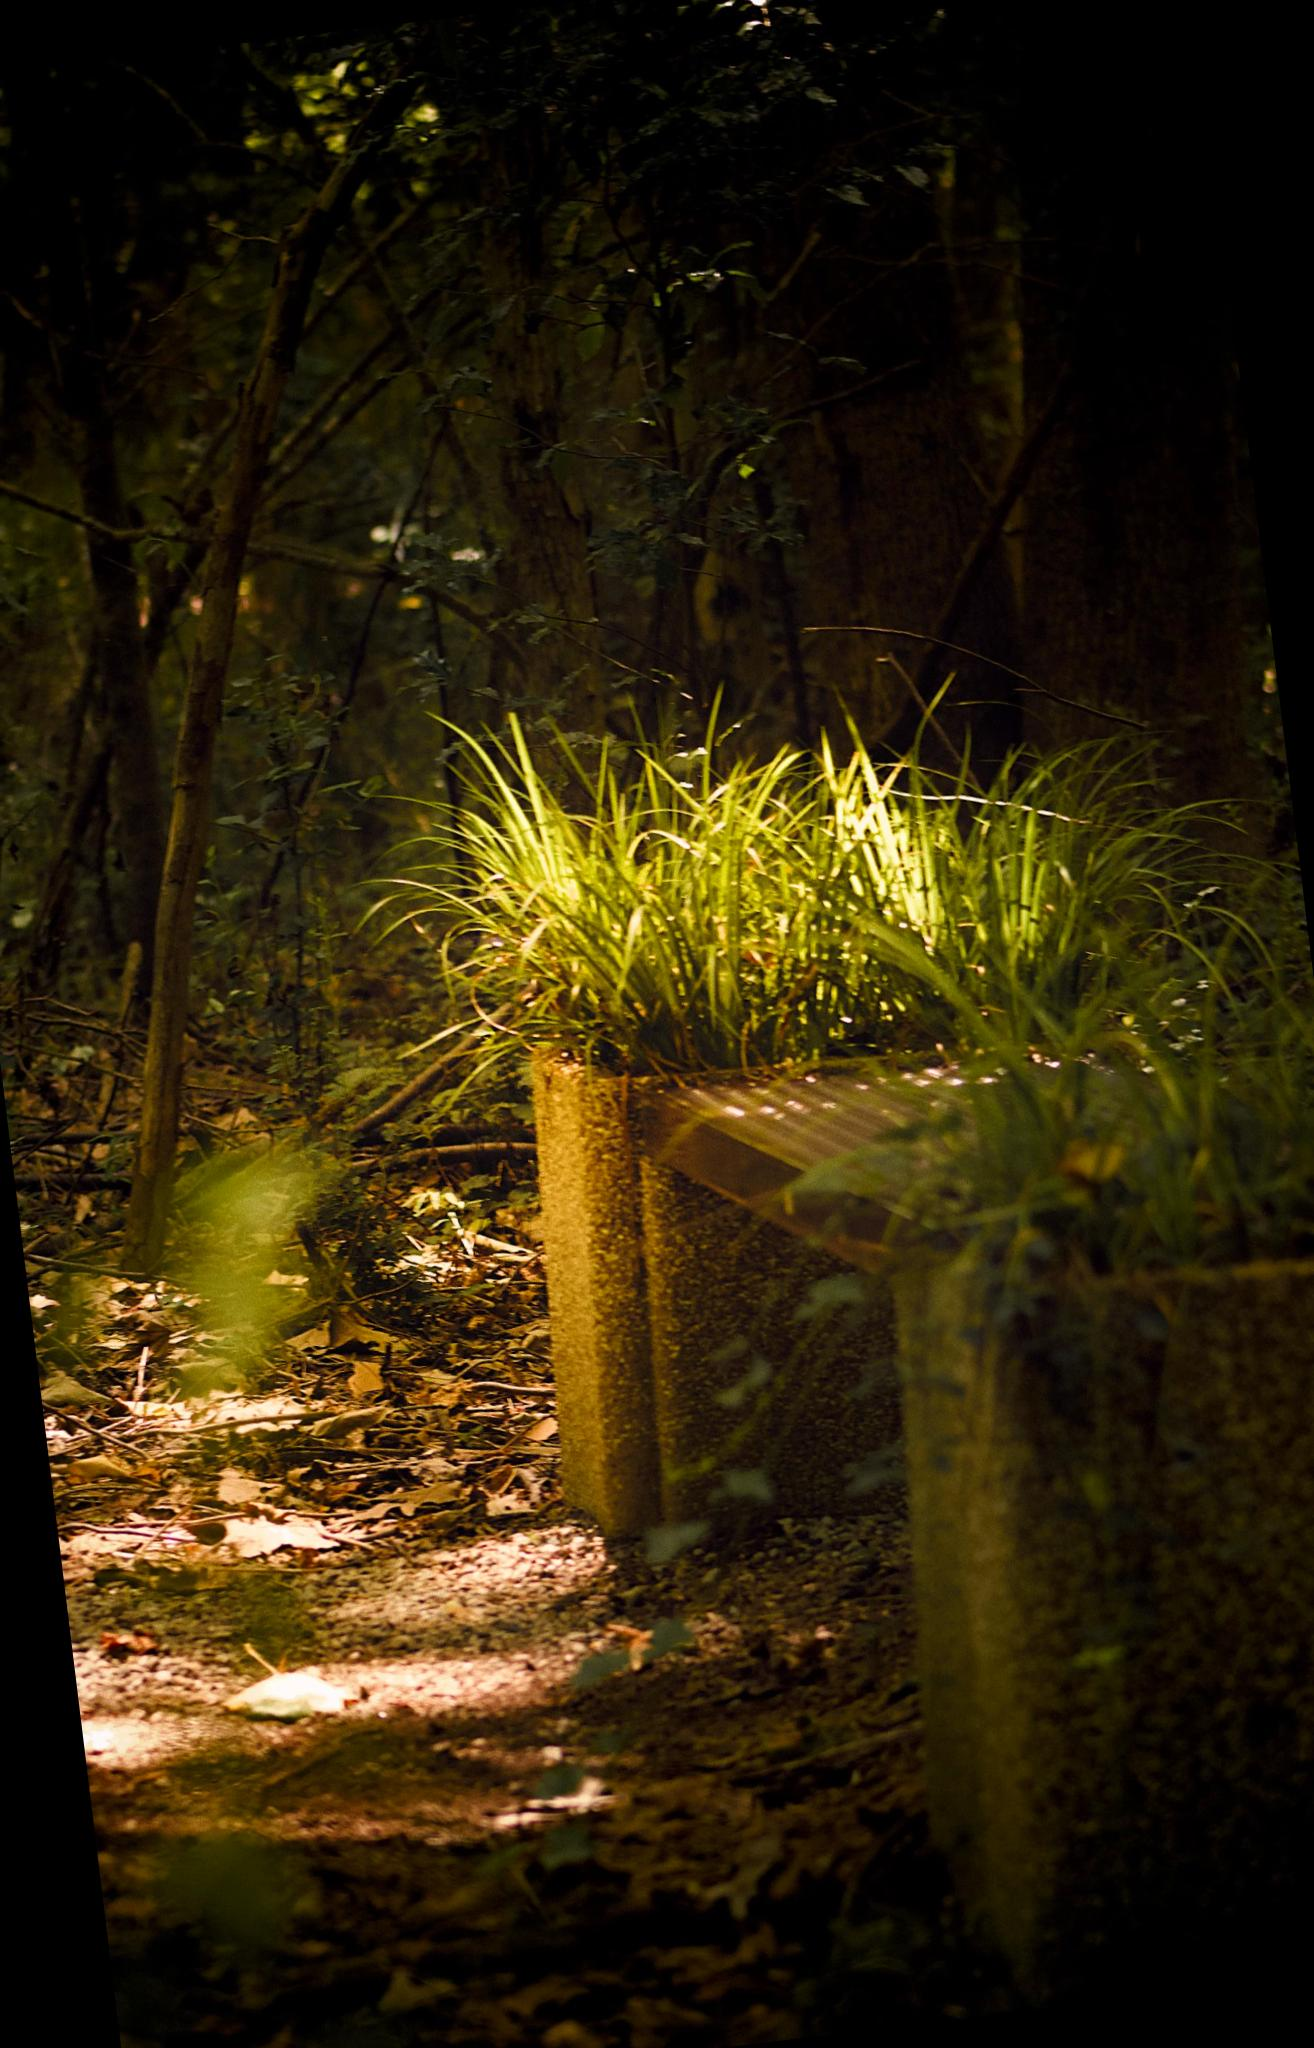overgrown grass: (781, 743, 1314, 1287), (469, 775, 745, 1003)
